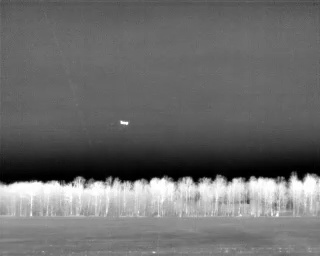DRONE: (115, 115, 133, 130)
